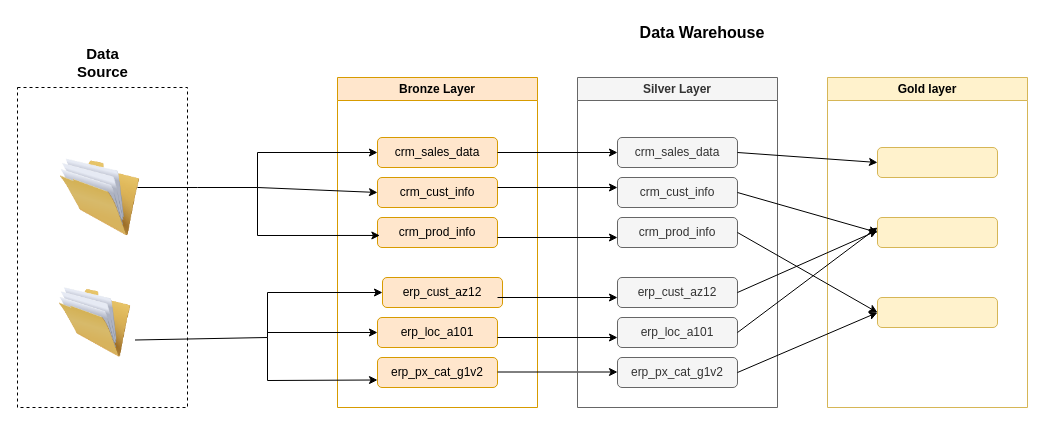
The diagram is 1045 pixels wide and 425 high, and some of its shapes have lost their labels. Here are the shapes that lost their labels. From the top down, the centre of each, then its label:
At pixel 937 162: "fact_sales".
At pixel 100 197: "CRM".
At pixel 937 232: "dim_customers".
At pixel 94 322: "ERP".
At pixel 937 312: "dim_products".
